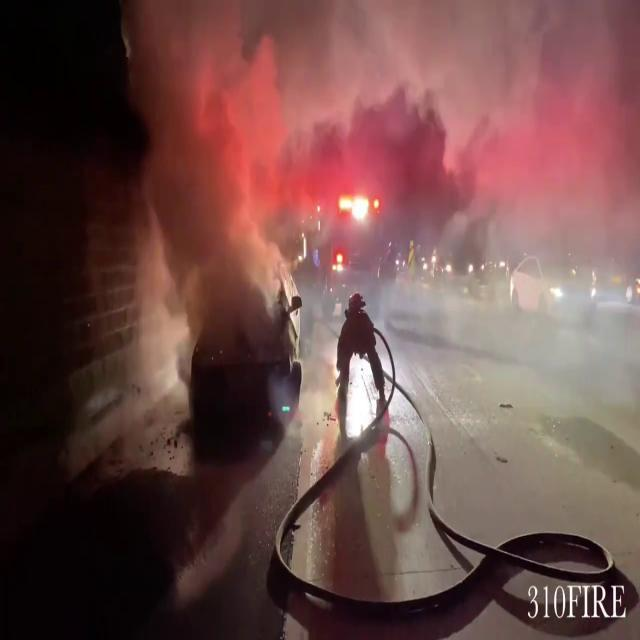Smoke: (100, 1, 398, 406), (103, 0, 638, 192)
